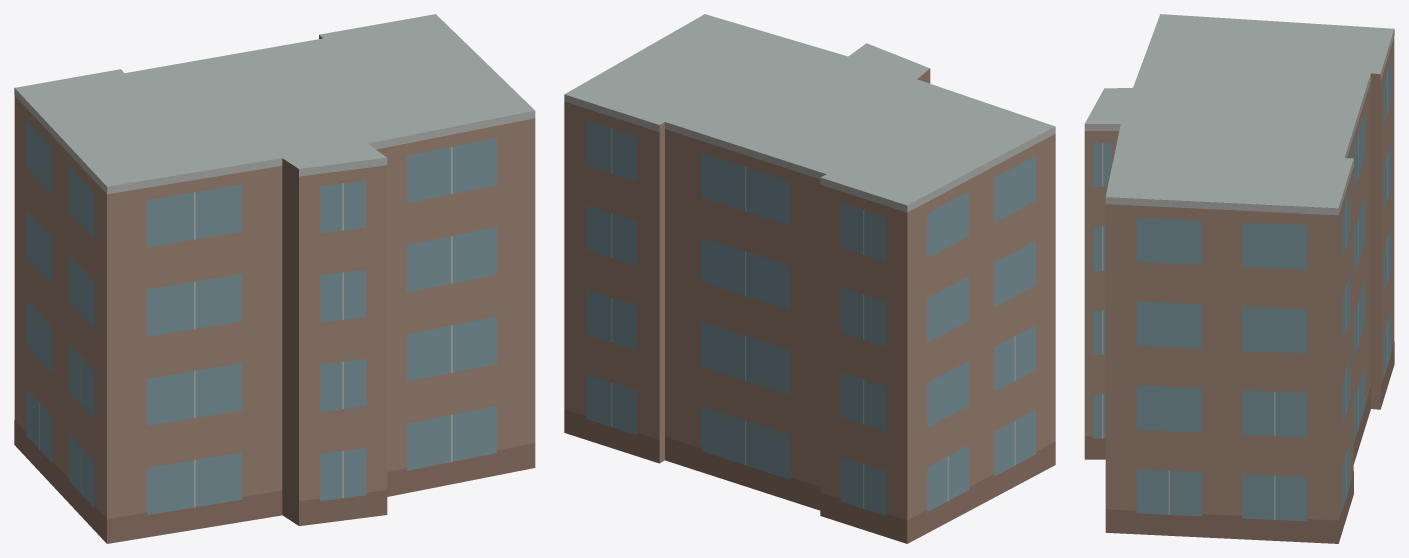
The model's file is survey-upis-32643126.glb.
3 renders of one model, left to right at view 1: azimuth 30°, elevation 25°; view 2: azimuth 150°, elevation 25°; view 3: azimuth 270°, elevation 25°, orthographic. The views are drawn at different scales.
Parts seen in each view (by area): view 1: survey-upis-32643126.tmp; view 2: survey-upis-32643126.tmp; view 3: survey-upis-32643126.tmp.
Boxes of the visible parts, left/top/right/bottom form: survey-upis-32643126.tmp: left=14, top=14, right=535, bottom=543; survey-upis-32643126.tmp: left=564, top=14, right=1055, bottom=543; survey-upis-32643126.tmp: left=1084, top=14, right=1394, bottom=543.
Size of the model in its own units: 14.41 by 11.6 by 9.72.
